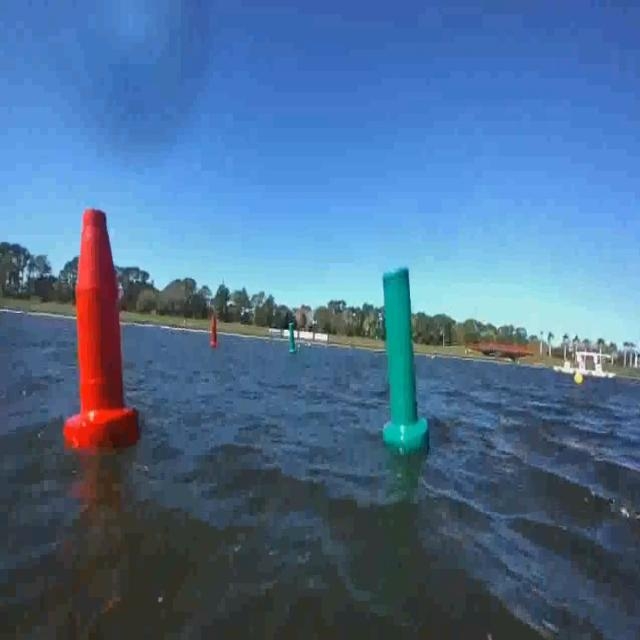green-column-buoy: (378, 261, 427, 450), (288, 324, 298, 356)
red-column-buoy: (65, 209, 139, 452), (210, 318, 220, 349)
yellow-buoy: (574, 372, 582, 387)
